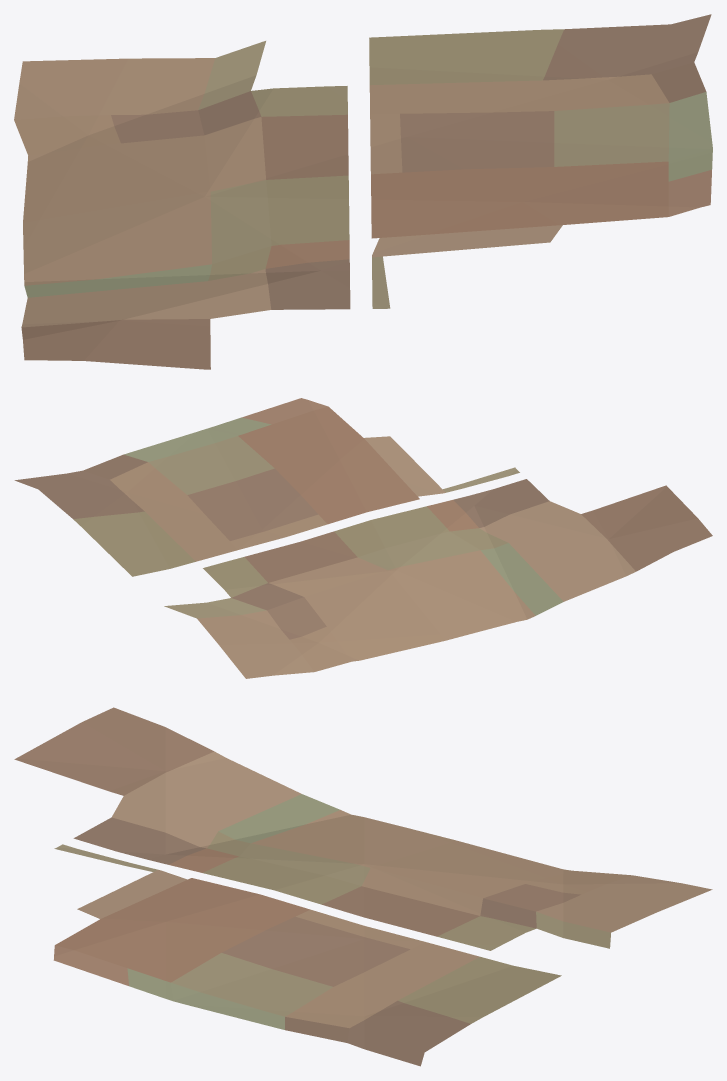
The model's file is farm_-6_5_soil.glb.
3 renders of one model, top to bottom at view 1: azimuth 30°, elevation 25°; view 2: azimuth 150°, elevation 25°; view 3: azimuth 270°, elevation 25°, orthographic. The views are drawn at different scales.
Visible parts, largest first — view 1: geometry_0; view 2: geometry_0; view 3: geometry_0.
Boxes of the visible parts, <box> form: geometry_0: <box>14,14,712,369</box>; geometry_0: <box>14,398,712,678</box>; geometry_0: <box>14,707,712,1066</box>.
Size of the model in its own units: 344 by 30.86 by 281.
